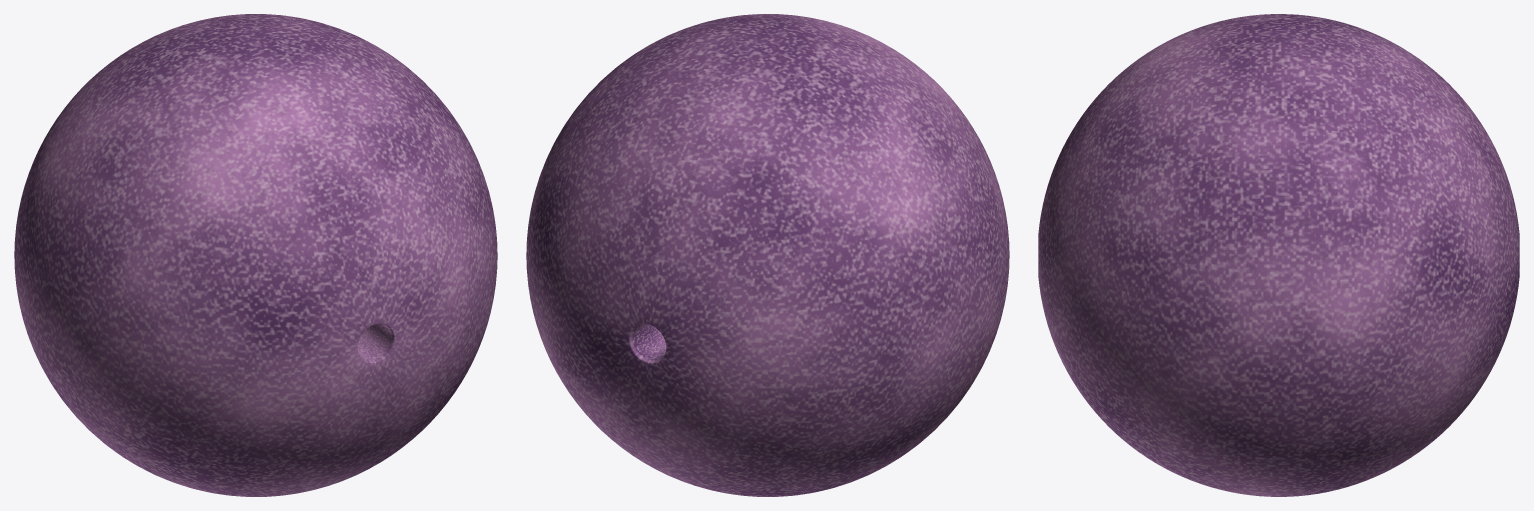
Rendered from lepidolite-12mm.glb.
3 renders of one model, left to right at view 1: azimuth 30°, elevation 25°; view 2: azimuth 150°, elevation 25°; view 3: azimuth 270°, elevation 25°, orthographic.
Parts seen in each view (by area): view 1: lepidolite.001; view 2: lepidolite.001; view 3: lepidolite.001.
Boxes of the visible parts, x1,y1,x2,y2 form: lepidolite.001: [14, 14, 497, 496]; lepidolite.001: [526, 14, 1009, 496]; lepidolite.001: [1038, 14, 1519, 496].
Size of the model in its own units: 0.012 by 0.012 by 0.012.
1 material, 1 textured.
